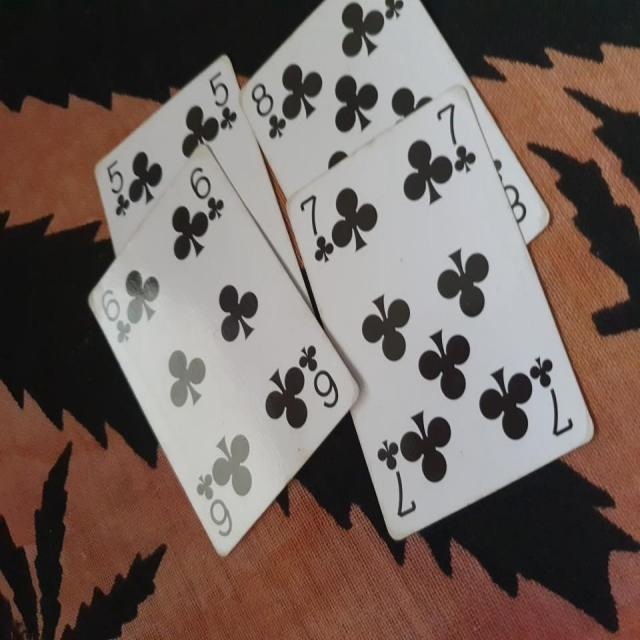5 Trefoils: (89, 51, 312, 308)
6 Trefoils: (87, 144, 359, 557)
7 Trefoils: (284, 85, 597, 543)
8 Trefoils: (236, 1, 552, 245)
